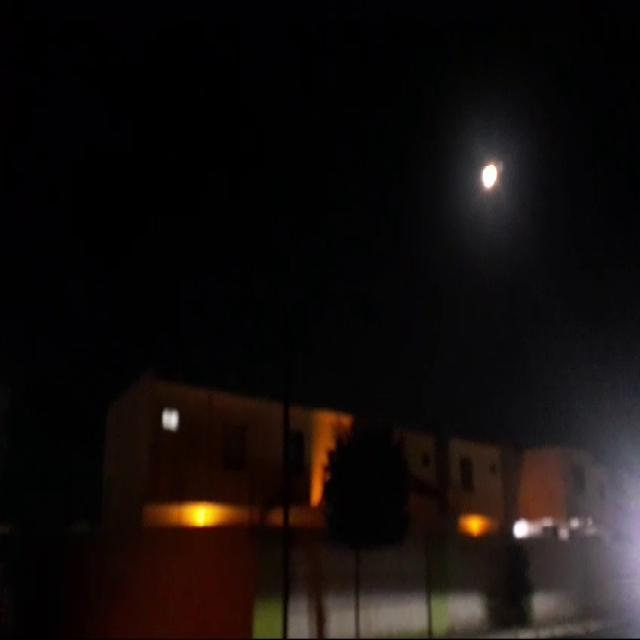moon: (478, 158, 498, 192)
